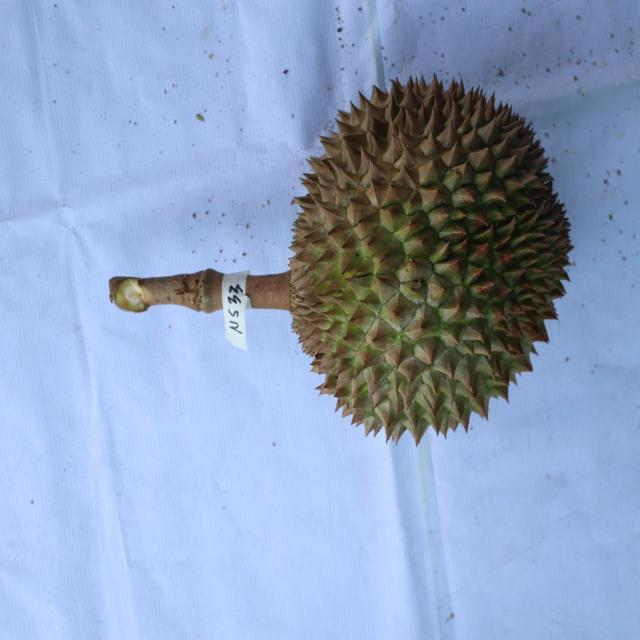mature: (289, 73, 577, 448)
